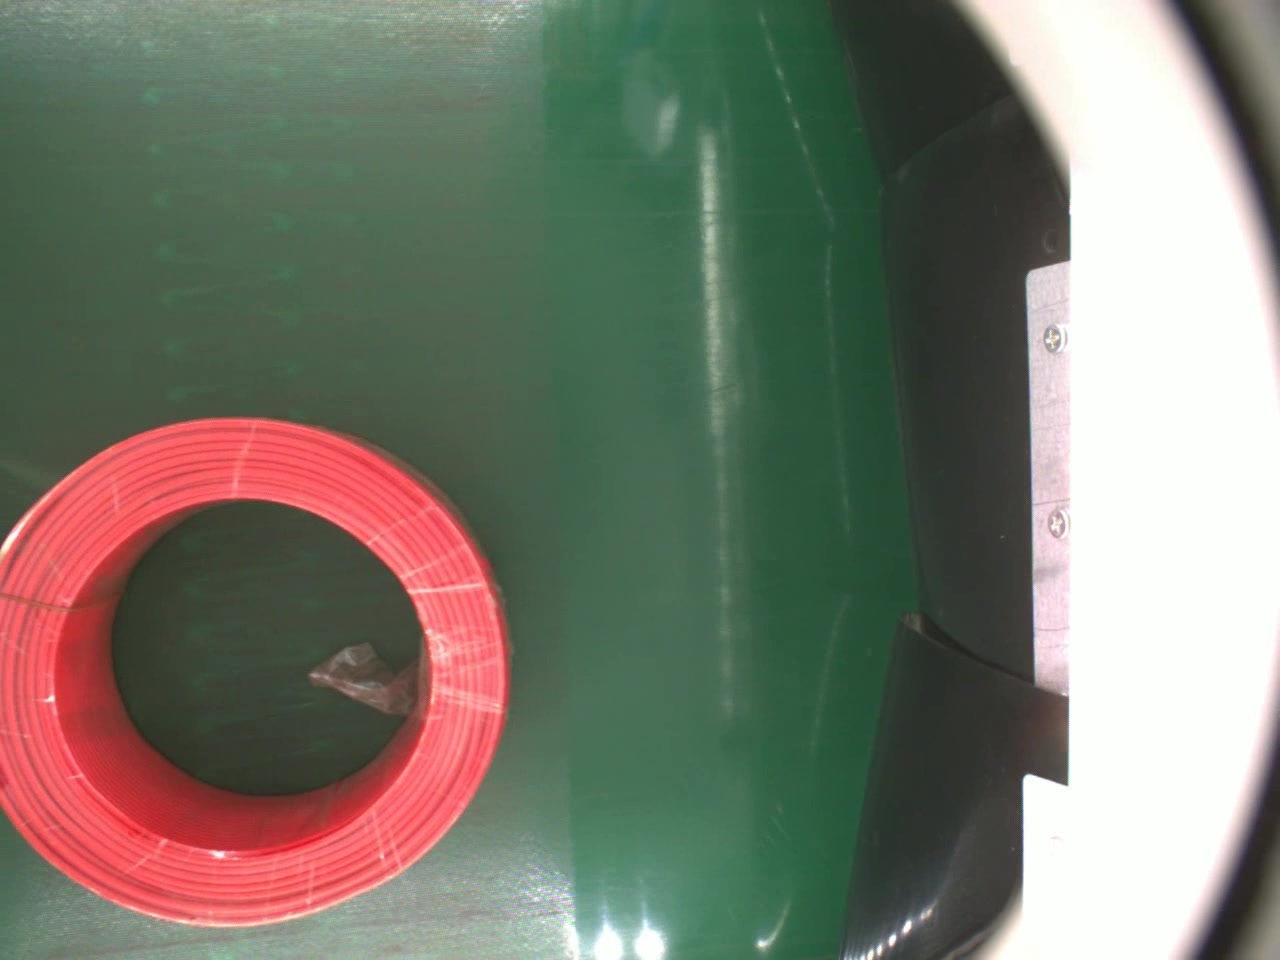red: (0, 412, 512, 931)
